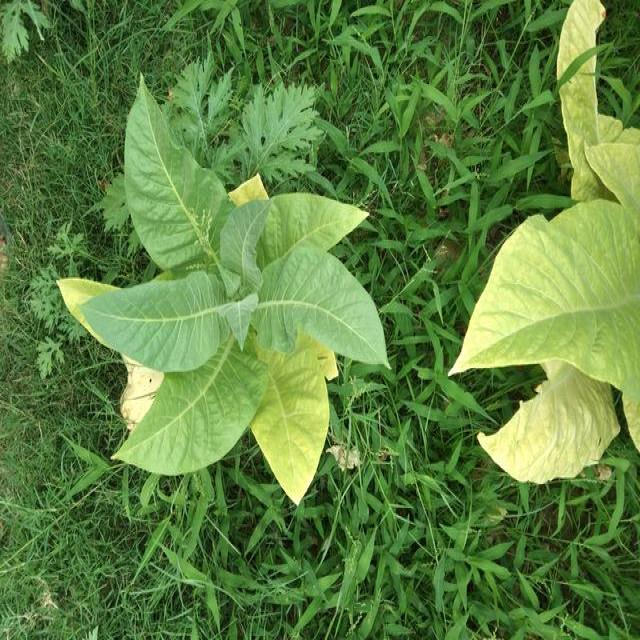crop: (59, 64, 393, 513)
